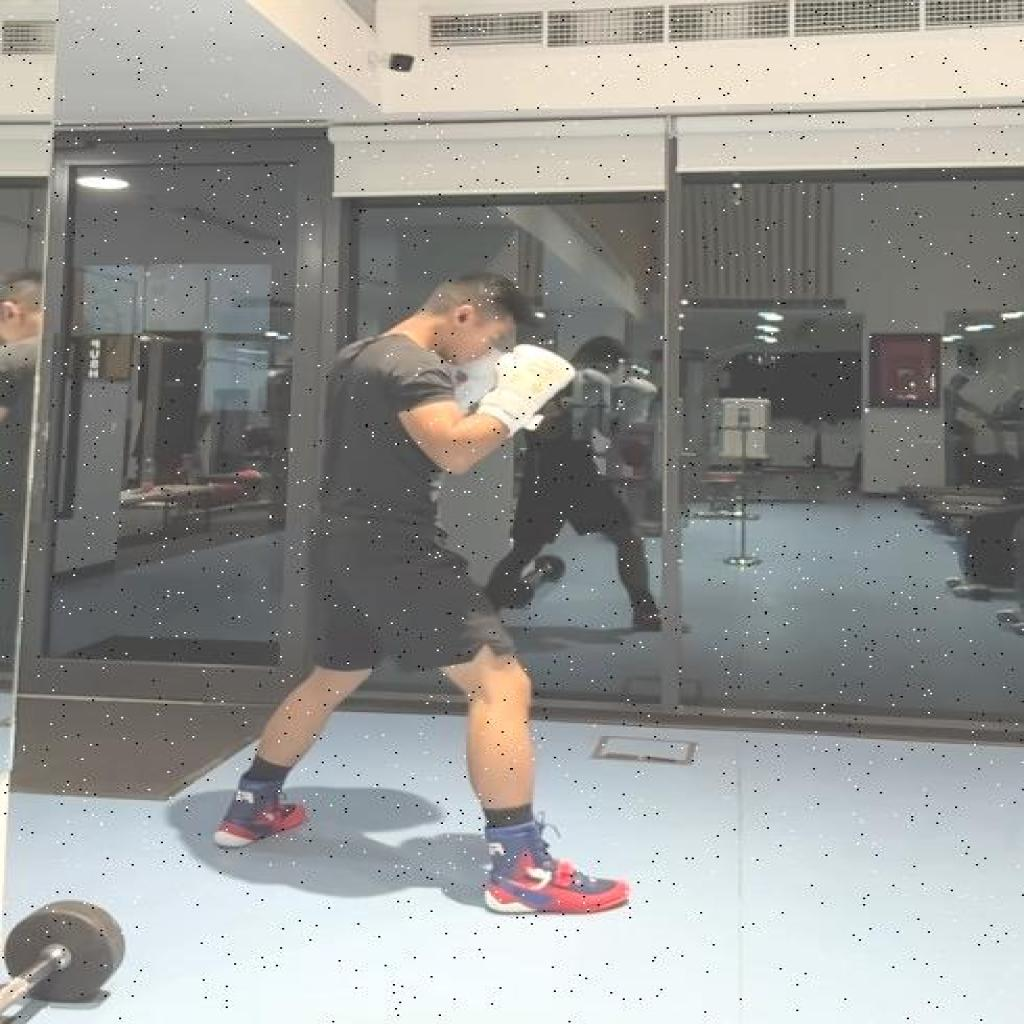no punch: (211, 268, 633, 918)
